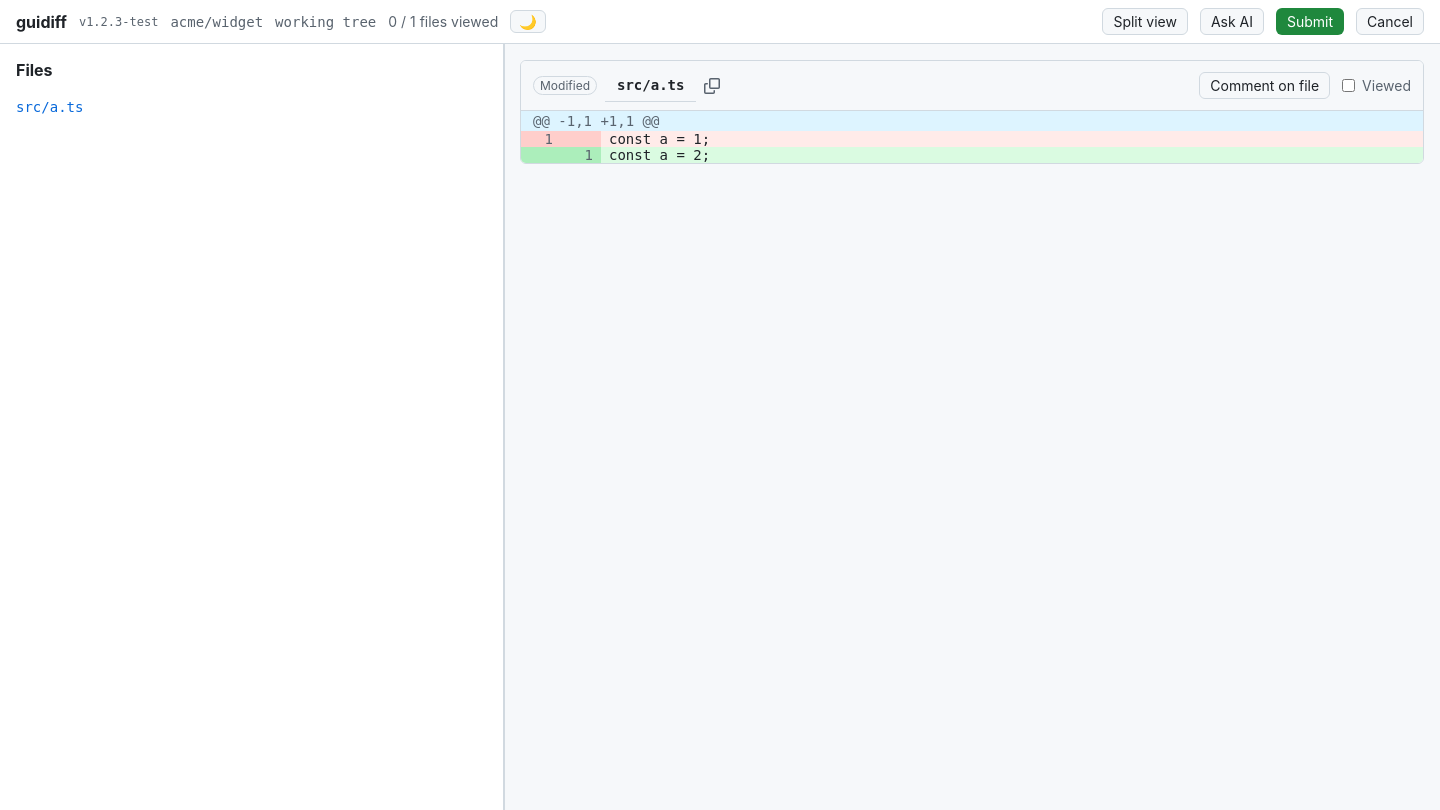
Test case: App › Ask AI from a comment form opens the panel with the question and its context
Expected: the button "Ask AI" is shown, left=1200, top=8, right=1264, bottom=35
Press the mouse on the text "1" next to "const a = 2;": [581, 155] box left=561, top=147, right=601, bottom=163
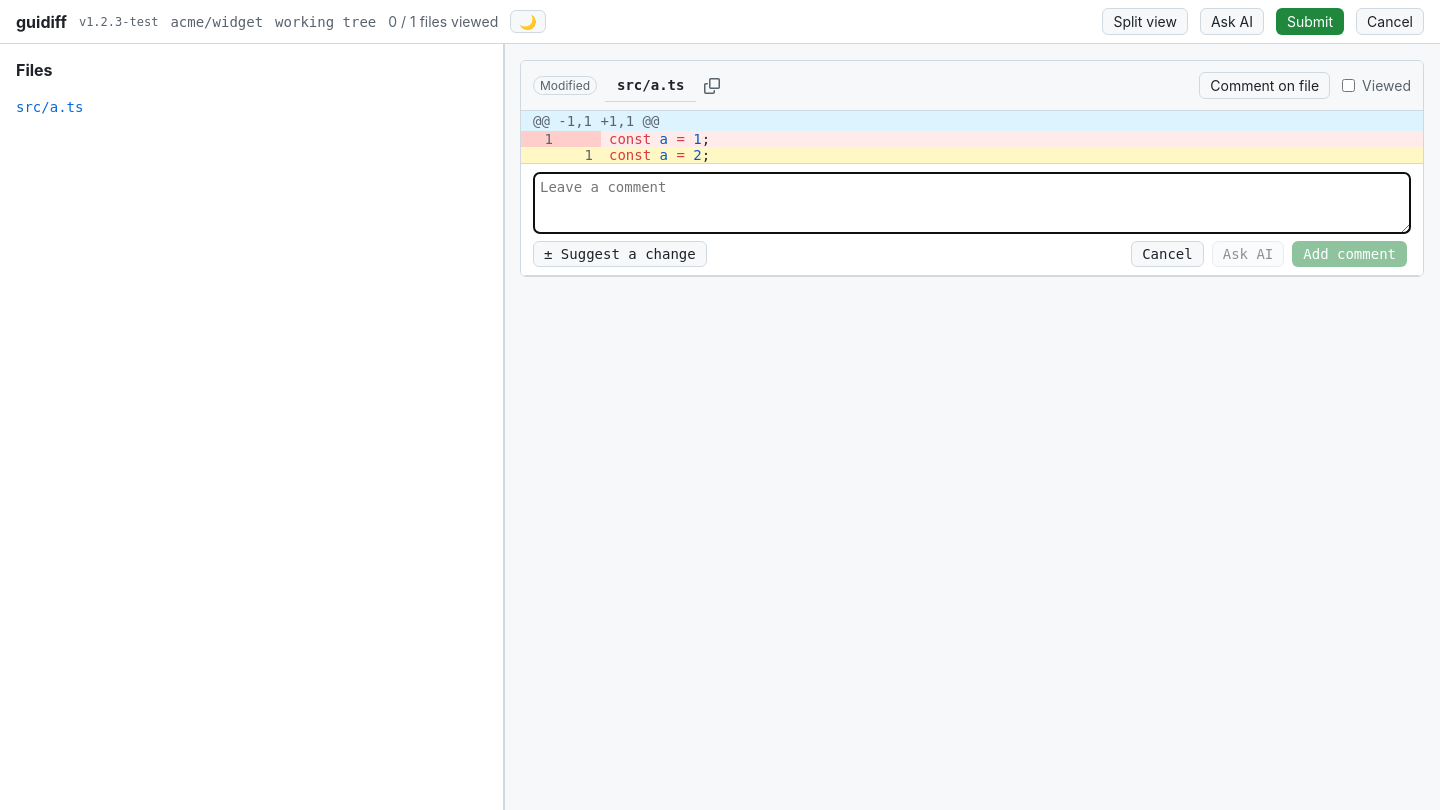
In the text box with placeholder "Leave a comment": [972, 203] box left=533, top=172, right=1411, bottom=234, type "what is a?"
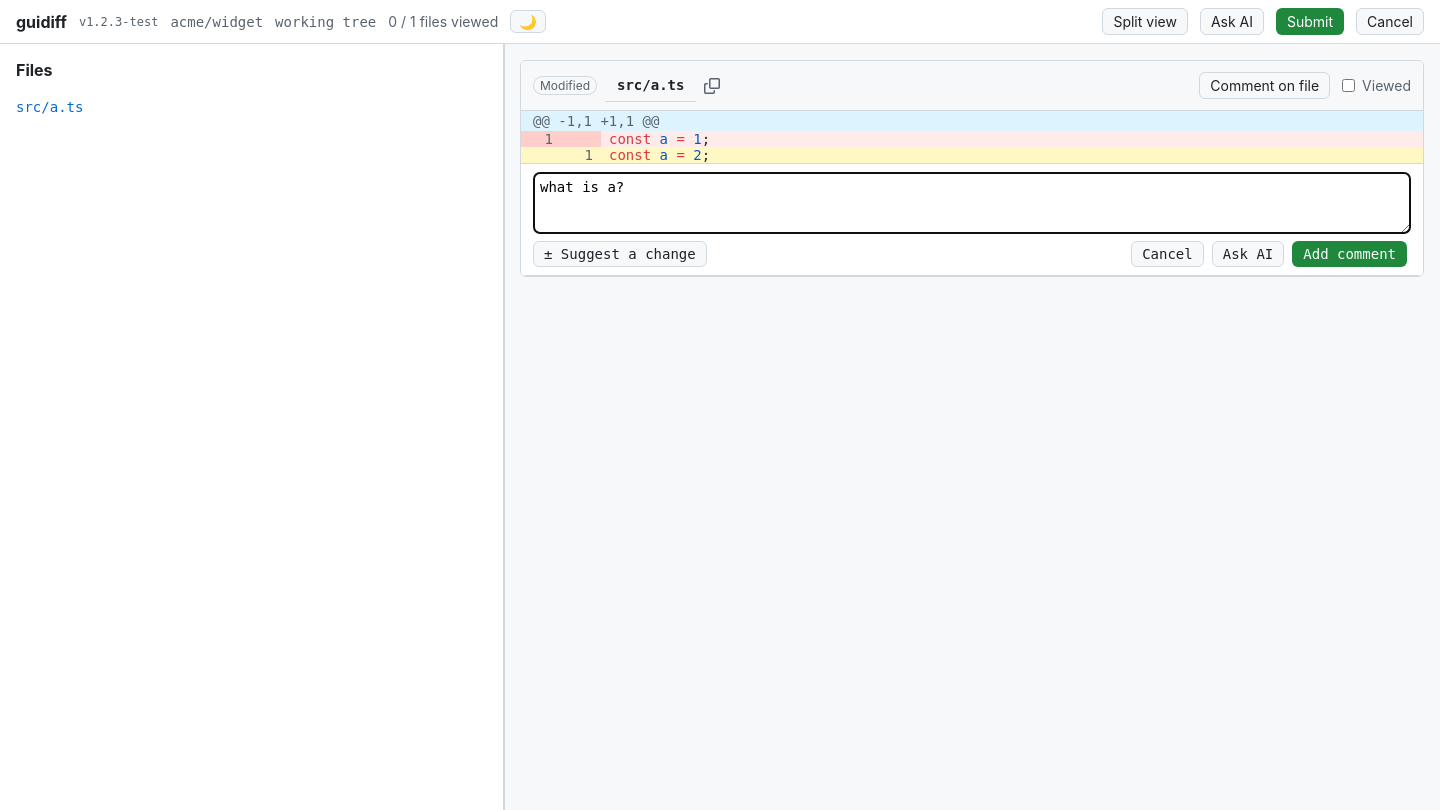
Click the 2nd button "Ask AI": [1248, 254] box left=1212, top=241, right=1284, bottom=267
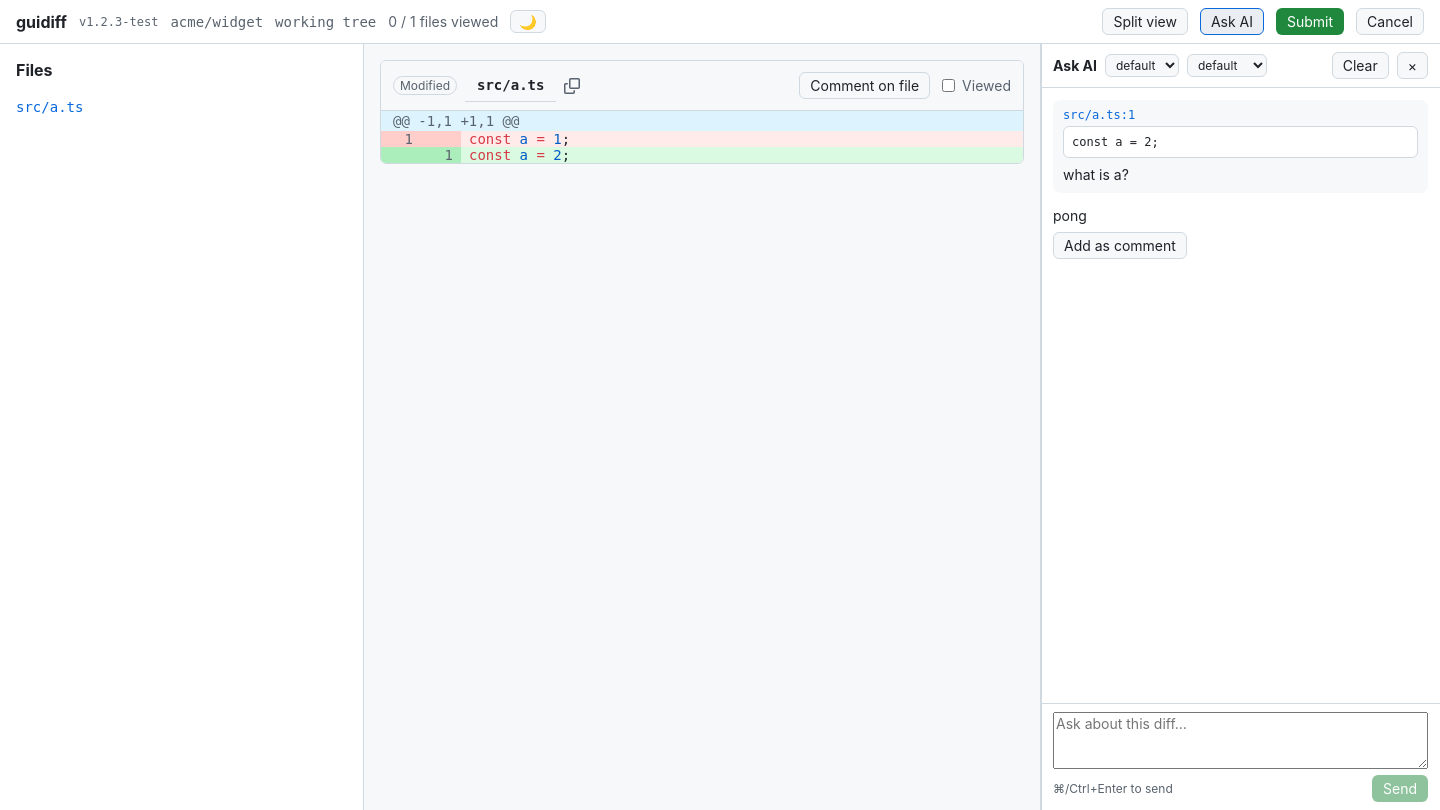
Expected: the field with placeholder "Leave a comment" is not shown
Expected: the button "src/a.ts:1" is shown, left=1063, top=108, right=1135, bottom=122
Expected: the text "what is a?" is shown, left=1063, top=166, right=1129, bottom=183
